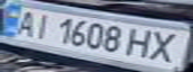0: (84, 20, 106, 52)
1: (48, 16, 75, 45)
6: (66, 18, 87, 48)
8: (103, 22, 127, 55)
A: (9, 8, 42, 37)
H: (124, 26, 160, 59)
I: (27, 11, 57, 40)
X: (145, 29, 187, 65)
